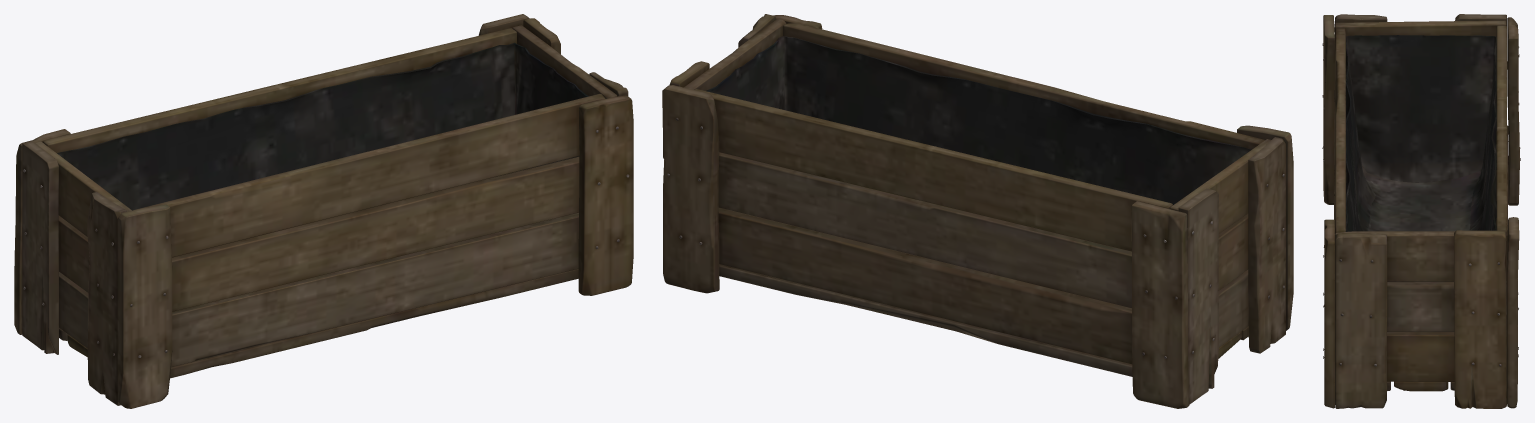
The model's file is planter_box_02.glb.
The picture shows the model from 3 angles, left to right: view 1: azimuth 30°, elevation 25°; view 2: azimuth 150°, elevation 25°; view 3: azimuth 270°, elevation 25°; orthographic projection. The views are drawn at different scales.
Visible parts, largest first — view 1: planter_box_02; view 2: planter_box_02; view 3: planter_box_02.
Part boxes in pixels (x1=…): planter_box_02: x1=14, y1=14, x2=633, y2=408; planter_box_02: x1=662, y1=14, x2=1293, y2=408; planter_box_02: x1=1322, y1=14, x2=1520, y2=408.
Bounding box in the file's own units: 1.25 × 0.4534 × 0.4673.
Materials: 1 (1 with a texture image).
